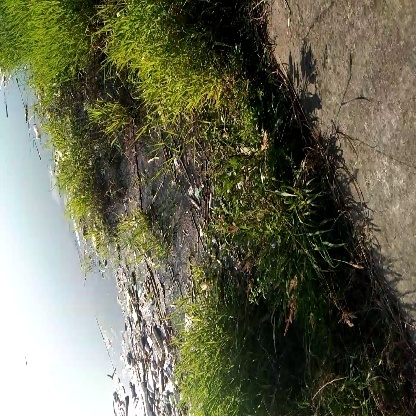grass: (180, 309, 244, 416)
